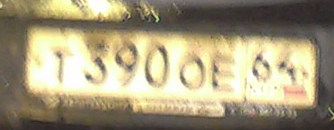character: (108, 39, 138, 90), (140, 39, 168, 91), (177, 49, 206, 94), (46, 46, 76, 87), (208, 50, 235, 95), (83, 39, 108, 86), (277, 39, 300, 83), (251, 39, 273, 83)
